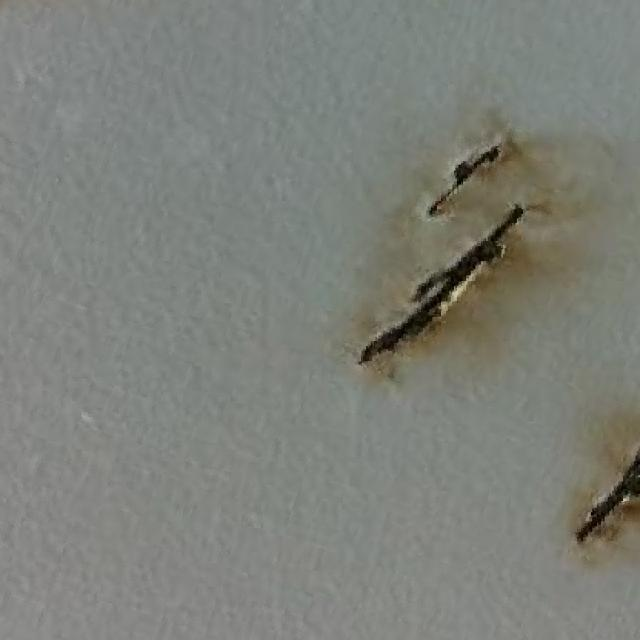crack: (368, 215, 514, 360), (572, 446, 640, 540), (437, 142, 502, 202)
